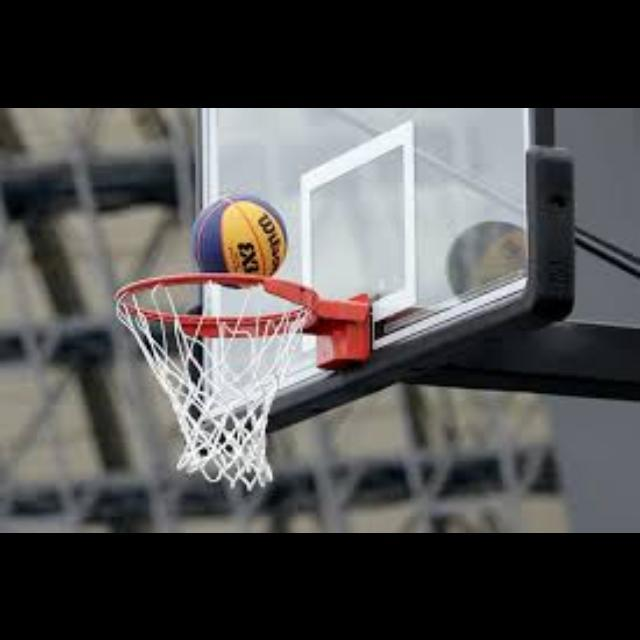basketball: (194, 195, 286, 287)
rim: (116, 272, 318, 484)
